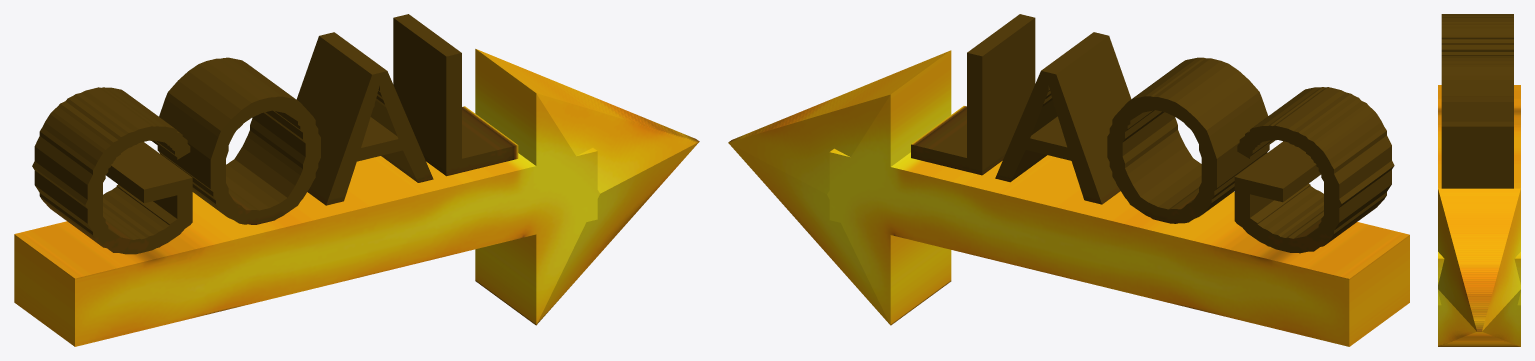
Rendered from GoalArow.glb.
3 renders of one model, left to right at view 1: azimuth 30°, elevation 25°; view 2: azimuth 150°, elevation 25°; view 3: azimuth 270°, elevation 25°, orthographic. The views are drawn at different scales.
Parts seen in each view (by area): view 1: GoalArow; view 2: GoalArow; view 3: GoalArow.
Part boxes in pixels (<box>): GoalArow: <box>14,14,699,346</box>; GoalArow: <box>728,14,1409,346</box>; GoalArow: <box>1438,14,1520,346</box>.
Bounding box in the file's own units: 109 × 46.46 × 17.62.
Materials: 1 (1 with a texture image).
